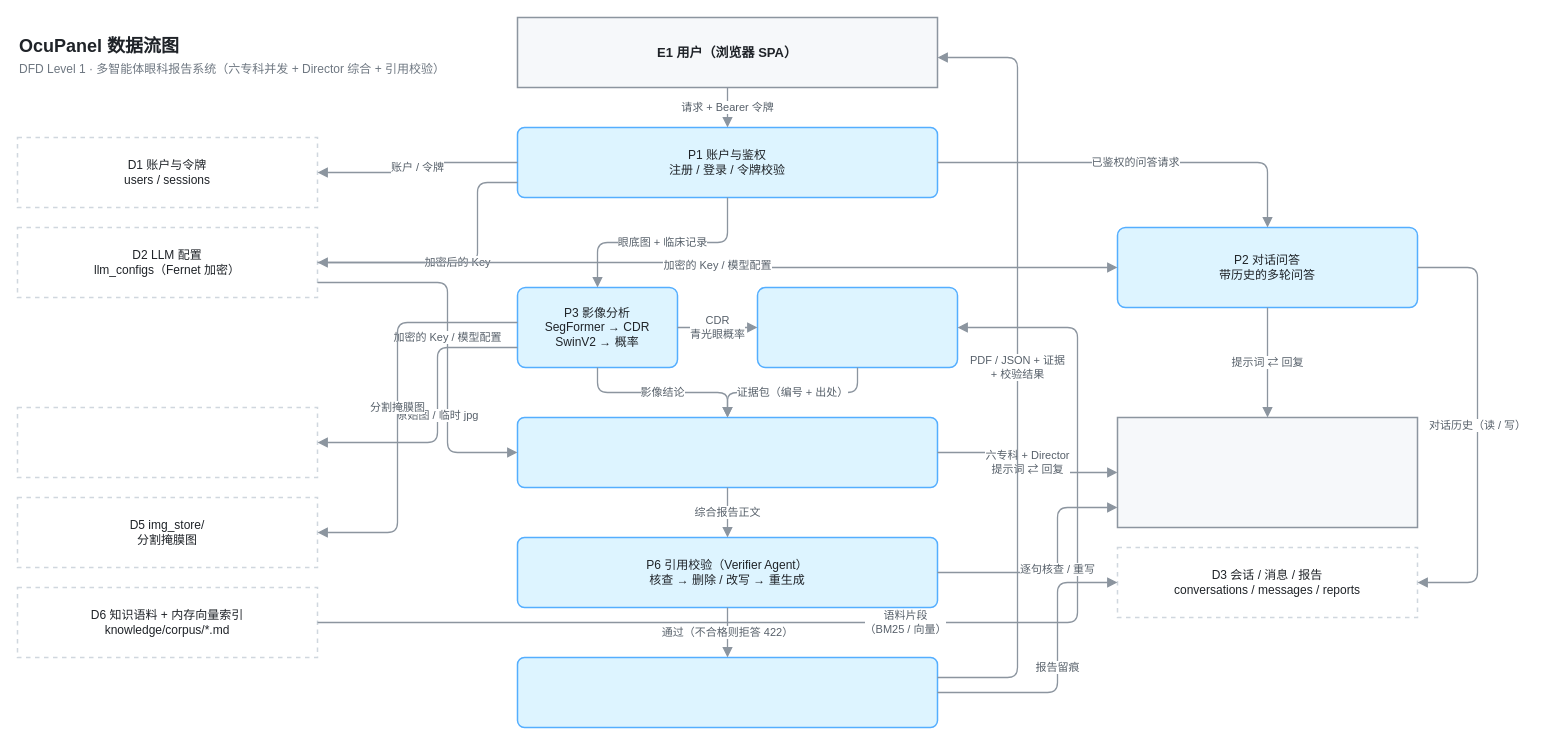
The diagram is 1544 pixels wide and 746 high, and some of its shapes have lost their labels. The shapes that lost their labels are listed below. From the top down, each one's centre as x and y in pixels, then its label:
(x=857, y=327): P4 证据检索 BM25 + 向量 + RRF
(x=167, y=442): D4 output/ 请求级临时目录
(x=727, y=452): P5 六专科并发 + Director 综合
(x=1267, y=472): E2 外部 LLM 服务 OpenAI 兼容（DeepSeek 等）
(x=727, y=692): P7 输出与持久化 PDF 渲染 / JSON / 落库
